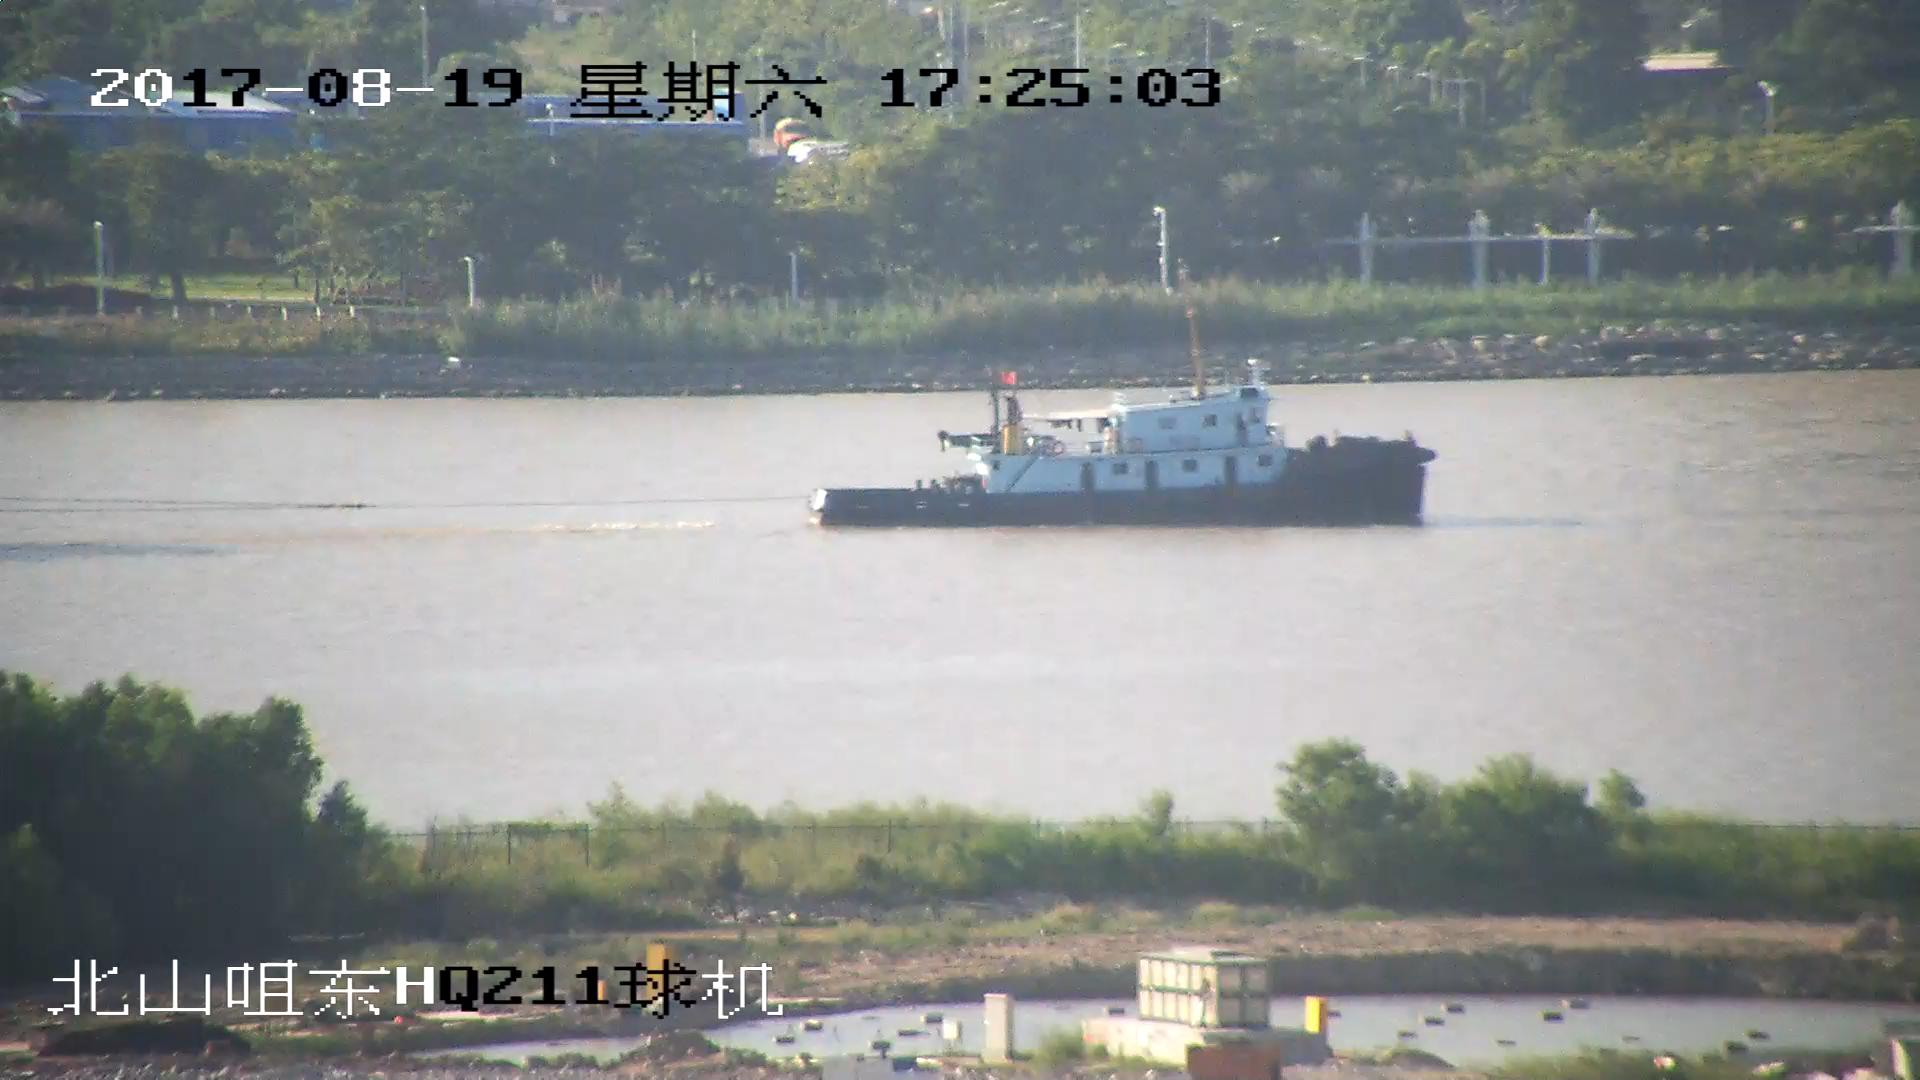fishing boat: (813, 342, 1435, 527)
